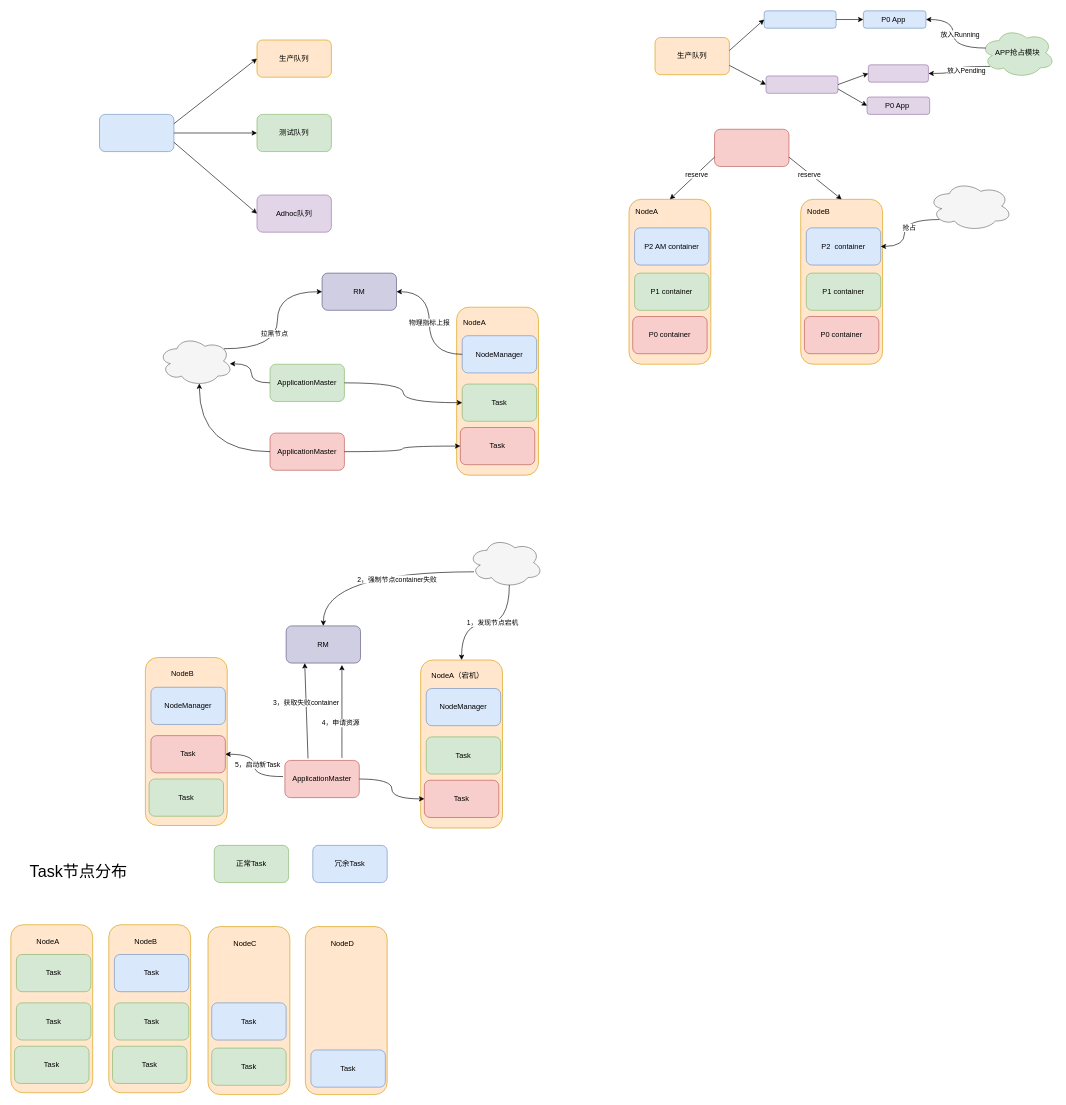
Some shapes in this 1066 by 1105 pixel diagram are drawn without their labels. The shapes that lost their labels are listed below. From the top down, each one's centre as x and y in pixels, then its label:
At point 800,19: "App Pending list".
At point 801,84: "App Running list".
At point 898,73: "P1 App".
At point 136,133: "部门队列".
At point 751,147: "P0 Pending Requst".
At point 970,206: "reserve抢占模块".
At point 195,361: "异常节点判定".
At point 505,562: "Hawk".
